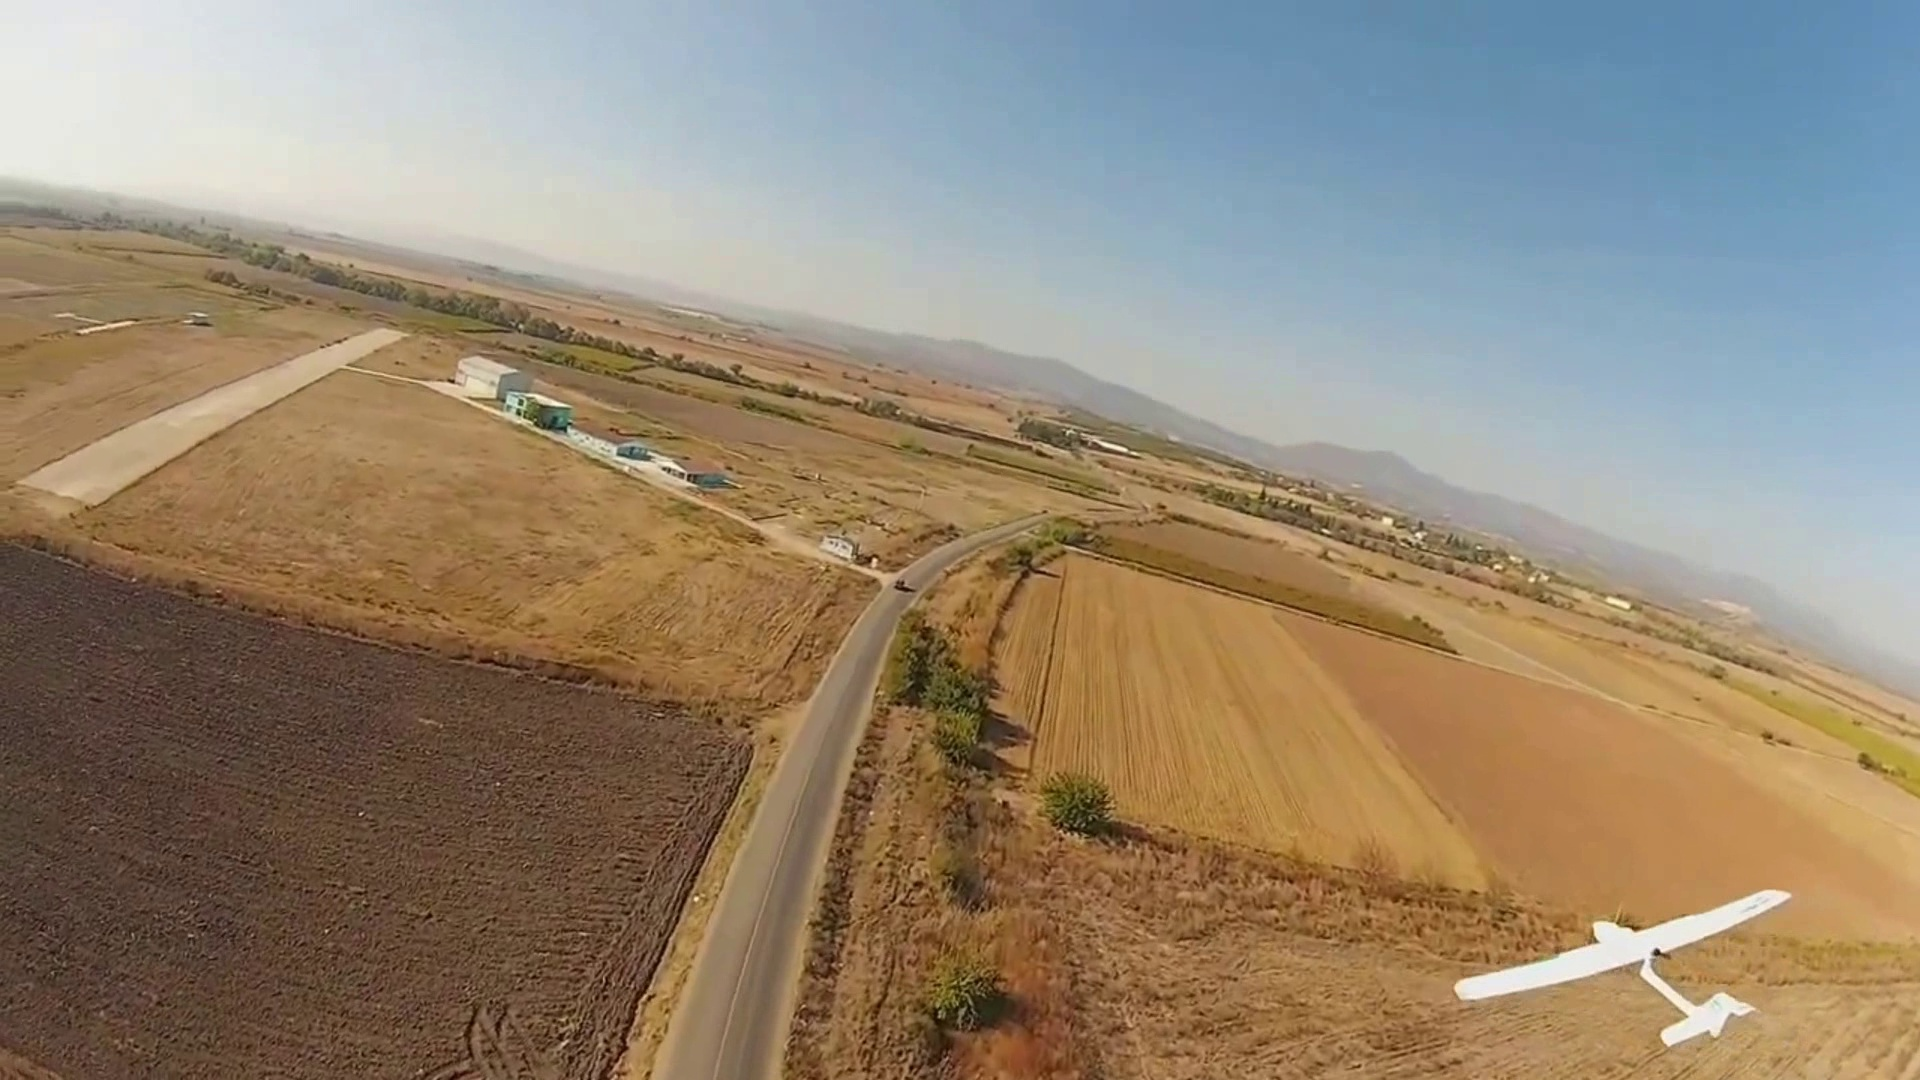airplane: (1455, 889, 1795, 1056)
